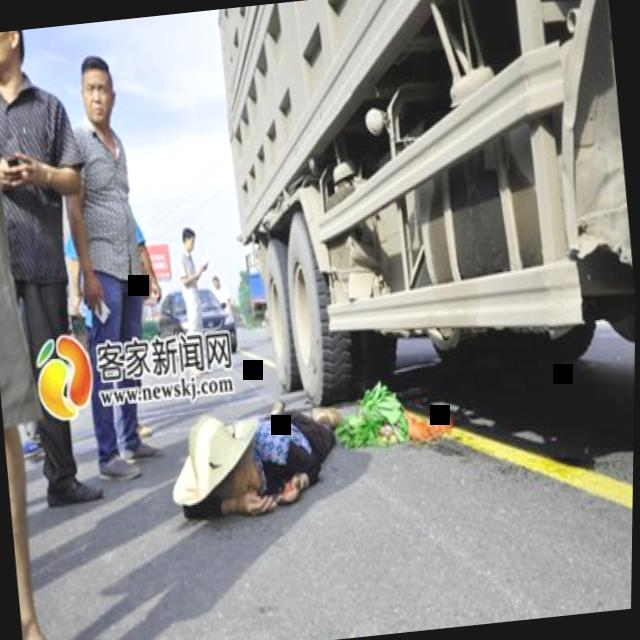Fall-Detected: (160, 369, 369, 536)
